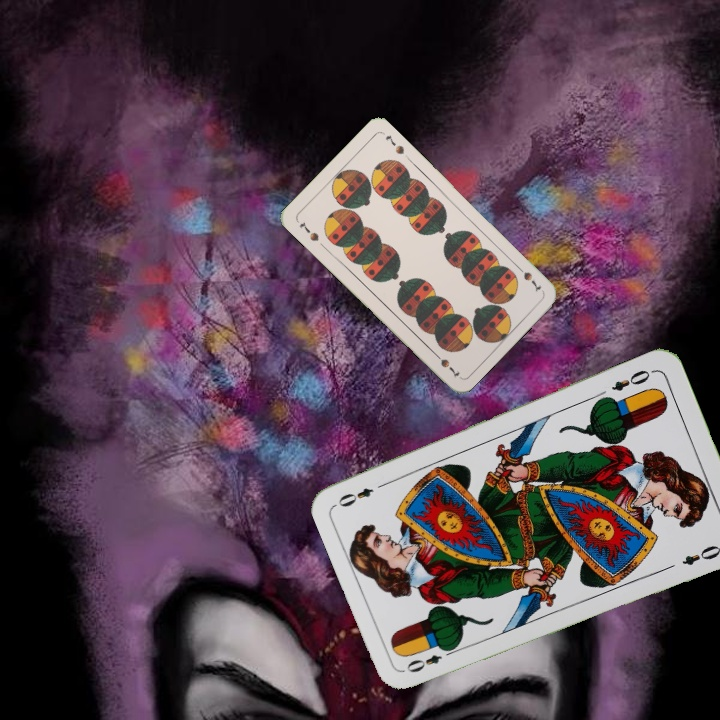EO: (402, 644, 458, 676), (607, 365, 657, 394)
S7: (513, 261, 544, 294), (296, 217, 322, 244)
